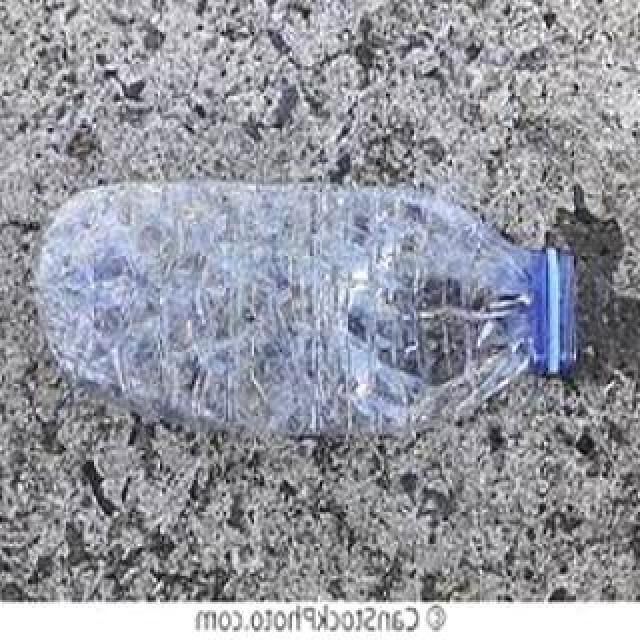Pet_Bottle: (20, 170, 594, 448)
